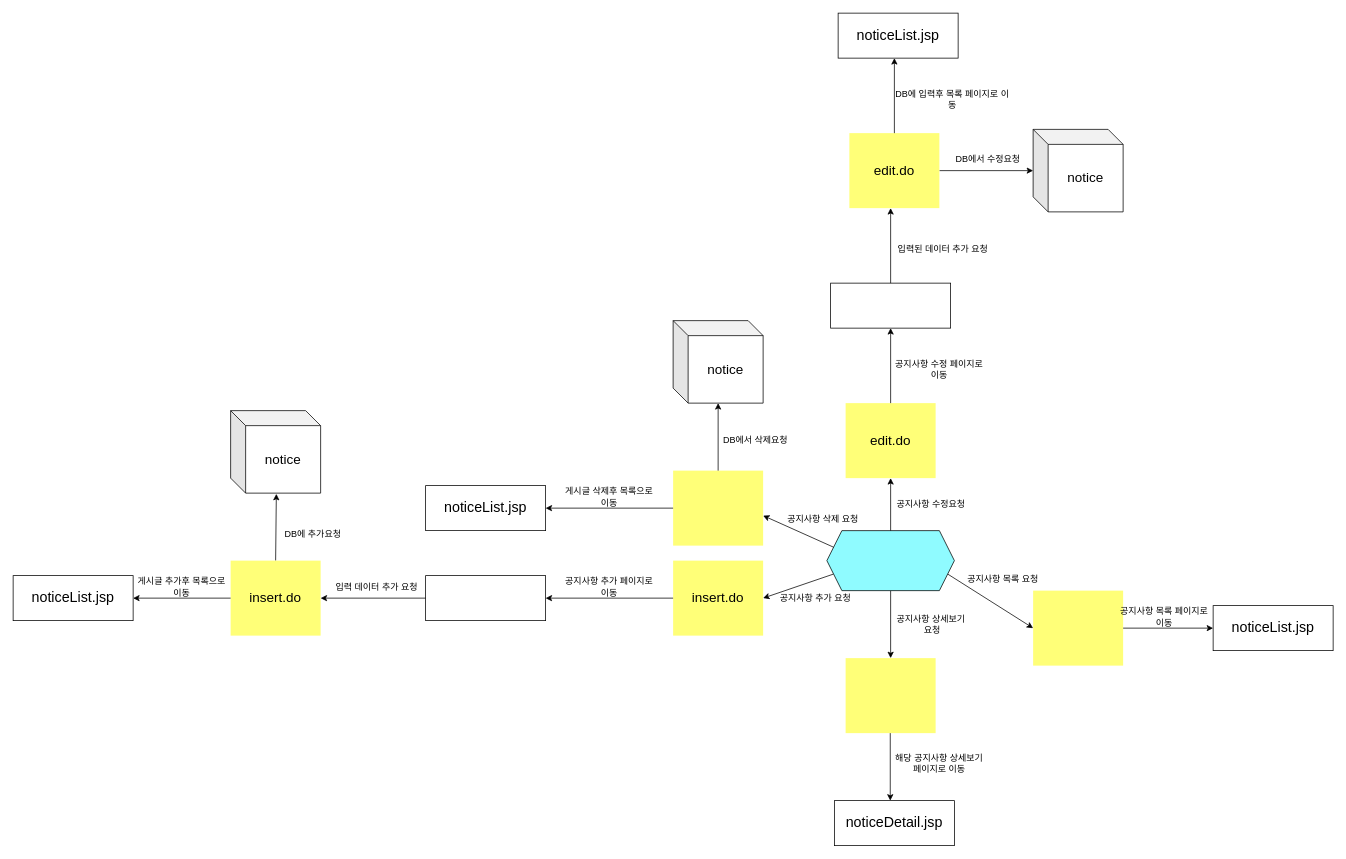
Image size: 1346x859. Some labels were removed from this diagram. Each missing label, with the centre of its shape:
"delete.do" goes at [718,507].
"detail.do" goes at [890,695].
"List.do" goes at [1078,627].
"Notice Controller.java" goes at [890,560].
"noticeEdit.jsp" goes at [890,305].
"noticeInsert.jsp" goes at [485,598].
